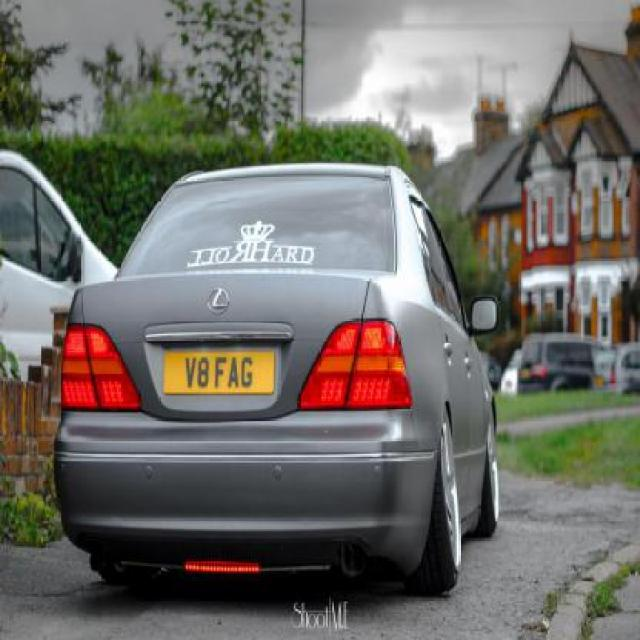License-Plates: (164, 348, 275, 396)
